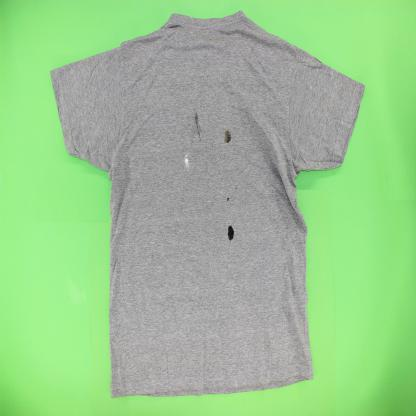hole: (192, 110, 204, 145)
stain: (225, 222, 236, 244), (221, 128, 233, 147), (183, 150, 192, 171), (177, 182, 185, 204)
